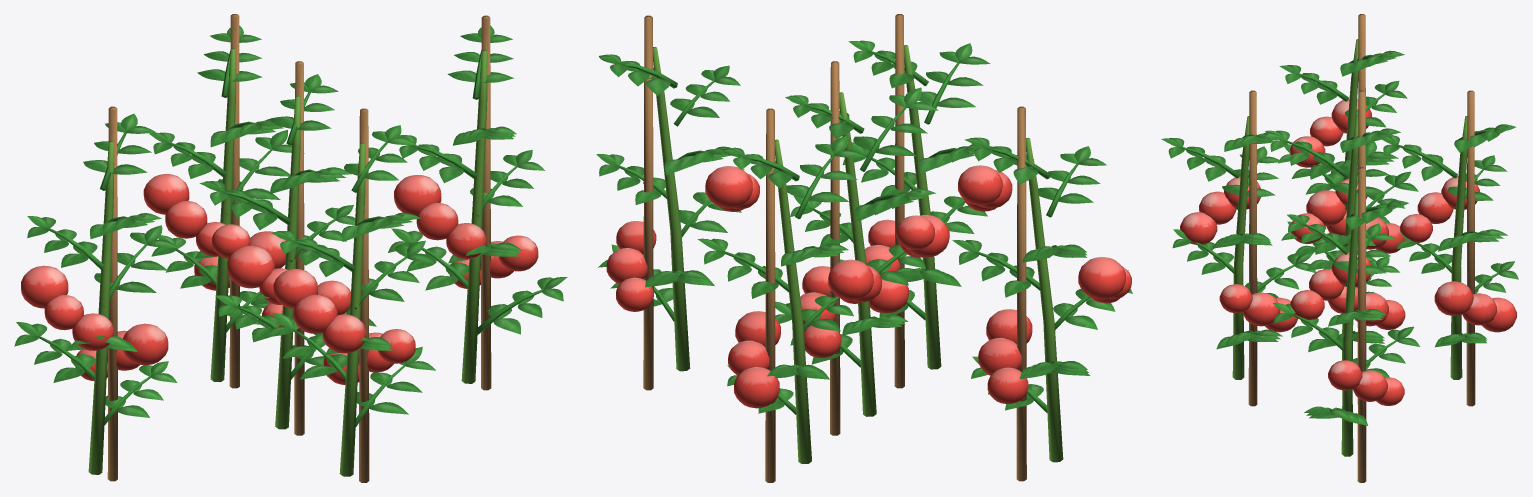
Rendered from crop_tomato.glb.
3 views of the same model, side by side, from view 1: azimuth 30°, elevation 25°; view 2: azimuth 150°, elevation 25°; view 3: azimuth 270°, elevation 25° (orthographic). The views are drawn at different scales.
Parts seen in each view (by area): view 1: P1_leaf, P0_leaf, P3_leaf, P4_leaf, P2_leaf, P3_stem, P1_stem, P0_stem, P4_stem, P2_stem, P2_fruit4, P1_fruit3 (+16 smaller); view 2: P1_leaf, P4_leaf, P2_leaf, P3_leaf, P0_leaf, P3_stem, P1_stem, P4_stem, P2_stem, P0_stem, P1_fruit3, P3_fruit3 (+17 smaller); view 3: P3_leaf, P0_leaf, P4_leaf, P2_leaf, P1_leaf, P3_stem, P0_stem, P4_stem, P2_stem, P1_stem, P4_fruit0, P2_fruit4 (+22 smaller).
Part boxes in pixels (x1,y1,x2,y2): P1_leaf: (14, 113, 178, 425); P0_leaf: (265, 125, 435, 426); P3_leaf: (388, 25, 567, 334); P4_leaf: (149, 25, 304, 332); P2_leaf: (199, 74, 376, 379); P3_stem: (461, 15, 491, 390); P1_stem: (88, 106, 117, 481); P0_stem: (339, 108, 369, 482); P4_stem: (210, 14, 239, 388); P2_stem: (275, 61, 304, 435); P2_fruit4: (227, 245, 274, 288); P1_fruit3: (21, 265, 68, 308); P1_leaf: (952, 137, 1132, 412); P4_leaf: (697, 135, 865, 414); P2_leaf: (775, 87, 943, 367); P3_leaf: (596, 54, 744, 321); P0_leaf: (840, 40, 990, 320); P3_stem: (643, 15, 690, 390); P1_stem: (1016, 106, 1063, 481); P4_stem: (765, 108, 811, 482); P2_stem: (830, 61, 876, 435); P0_stem: (894, 14, 941, 388); P1_fruit3: (1078, 257, 1125, 299); P3_fruit3: (705, 166, 752, 208); P3_leaf: (1273, 200, 1419, 425); P0_leaf: (1161, 132, 1315, 349); P4_leaf: (1382, 124, 1518, 347); P2_leaf: (1265, 128, 1400, 347); P1_leaf: (1277, 50, 1418, 269); P3_stem: (1341, 167, 1366, 482); P0_stem: (1232, 90, 1257, 406); P4_stem: (1450, 90, 1475, 406); P2_stem: (1342, 90, 1366, 404); P1_stem: (1342, 14, 1366, 327); P4_fruit0: (1434, 281, 1473, 315); P2_fruit4: (1306, 190, 1346, 226).
Size of the model in its own units: 1.41 by 0.95 by 0.9858.
Materials: 1 (1 with a texture image).
